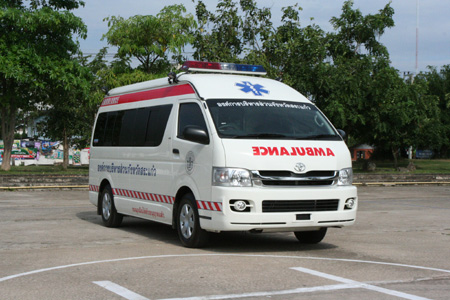van: (88, 70, 359, 248)
